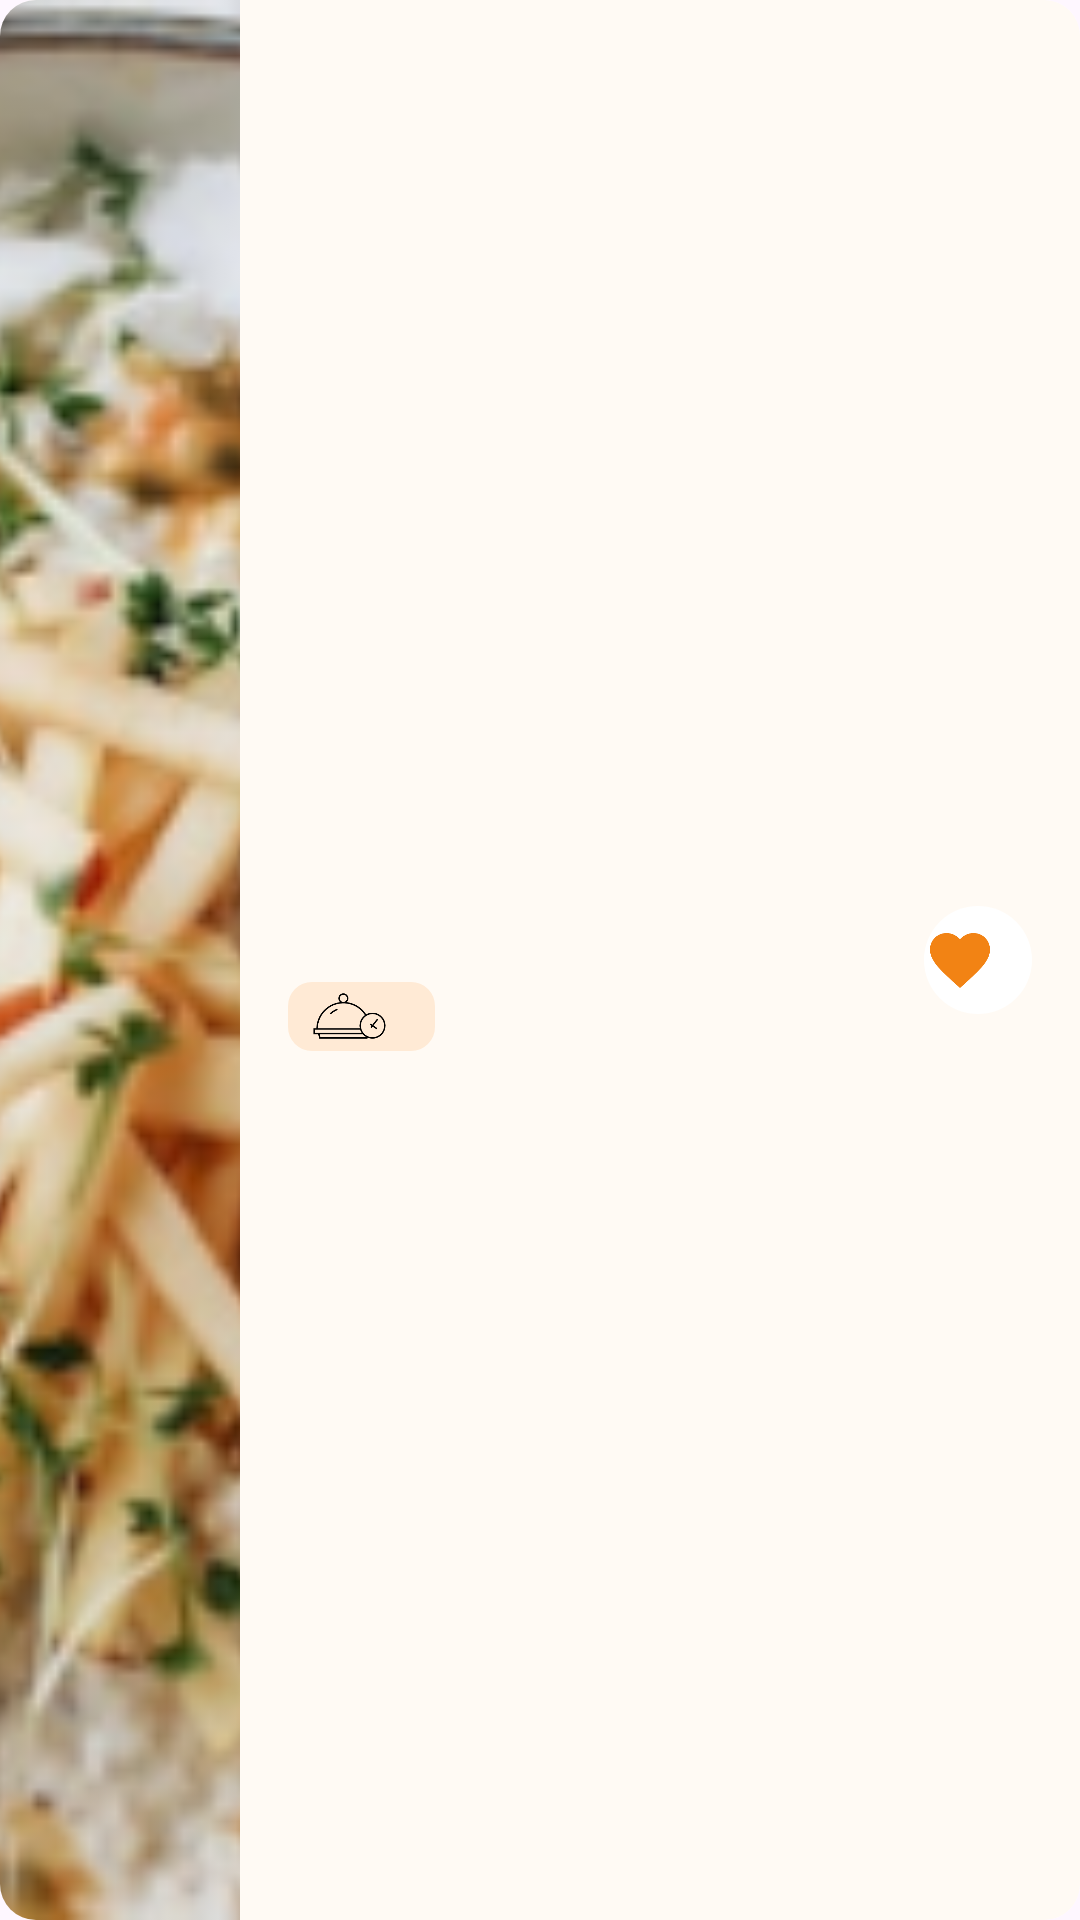

Screen size 1080px×1920px. Icon name, then its box in pixels as (x1, y1, x2, y2):
cuisine: (288, 982, 435, 1051)
Heart Icon: (930, 933, 990, 988)
